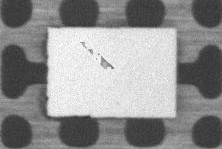DIE_INK: (119, 28, 177, 46)
